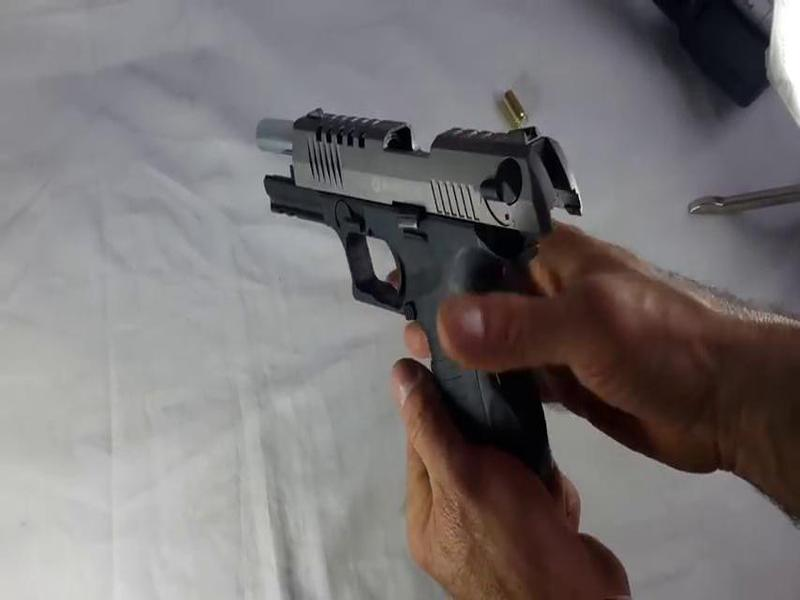Pistola: (242, 83, 592, 499)
